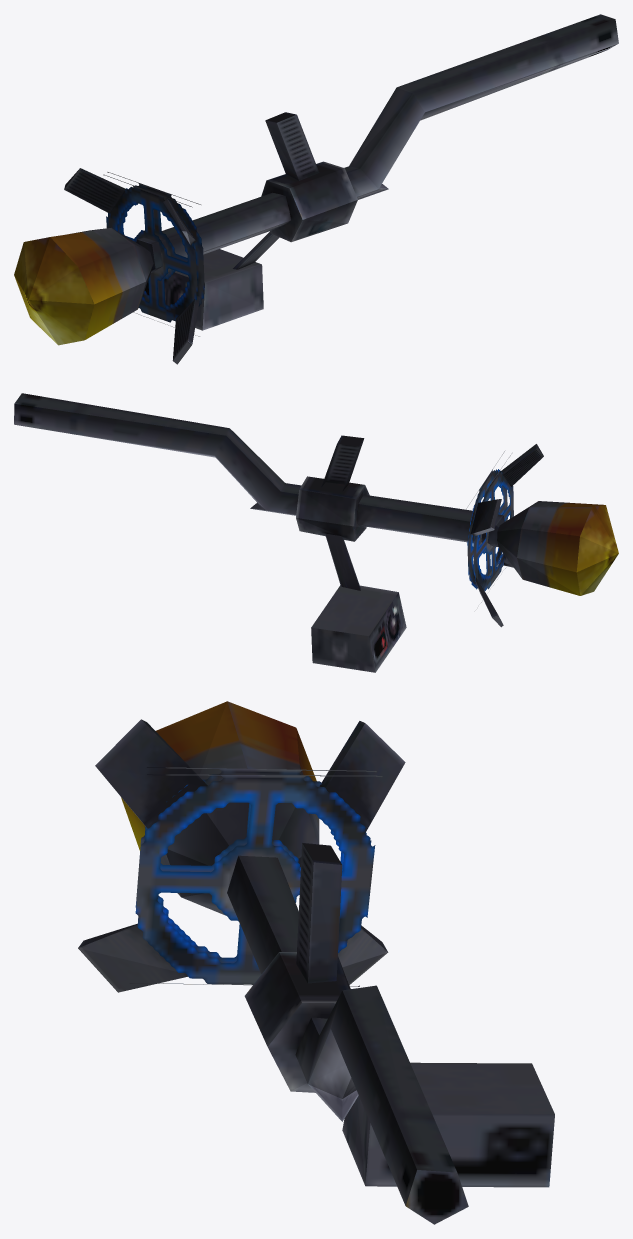
The model's file is XANTIARM.obj.
3 renders of one model, top to bottom at view 1: azimuth 30°, elevation 25°; view 2: azimuth 150°, elevation 25°; view 3: azimuth 270°, elevation 25°, orthographic. The views are drawn at different scales.
Visible parts, largest first — view 1: Node 0; view 2: Node 0; view 3: Node 0.
Boxes of the visible parts, x1=… form: Node 0: x1=14, y1=14, x2=618, y2=364; Node 0: x1=14, y1=393, x2=618, y2=672; Node 0: x1=78, y1=701, x2=554, y2=1224.
Size of the model in its own units: 2.19 by 0.68 by 0.83.
2 materials, 2 textured.
